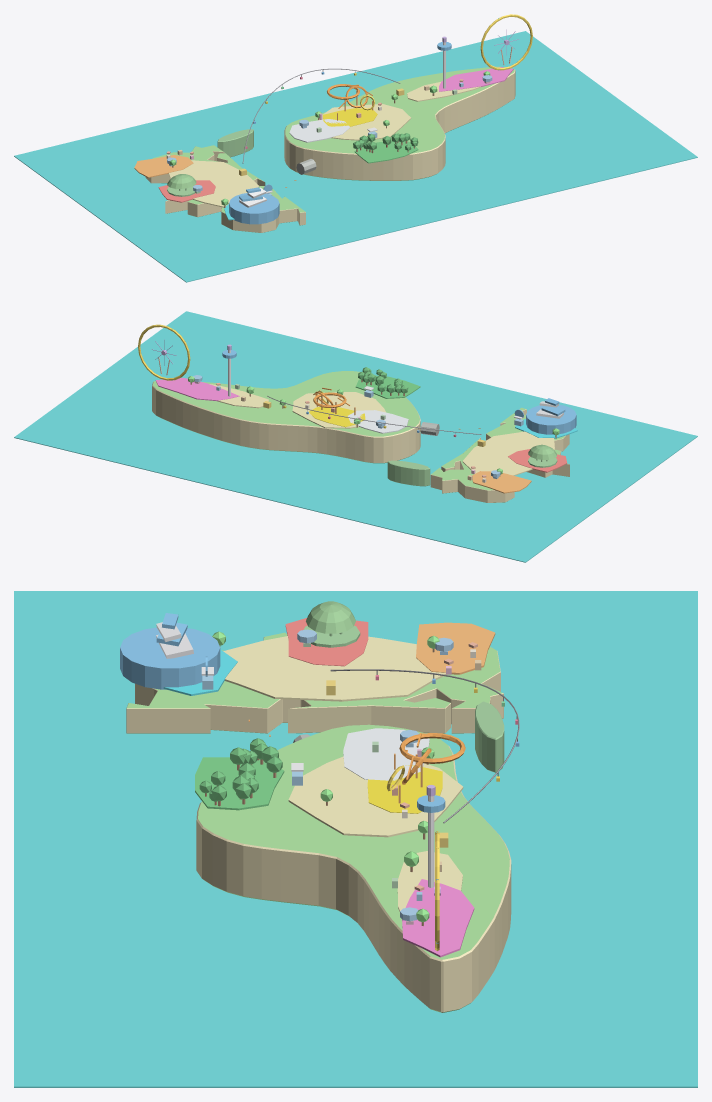
The model's file is OP_Map_LayoutV4.glb.
3 views of the same model, one above another, from view 1: azimuth 30°, elevation 25°; view 2: azimuth 150°, elevation 25°; view 3: azimuth 270°, elevation 25° (orthographic). The views are drawn at different scales.
Visible parts, largest first — view 1: Water_Plane, Island_Summit, Zone_Tints, Island_Waterfront, LM_GrandAquarium, Trees, Ridge_Gap, LM_FerrisWheel, Buildings_Sparse, LM_GiantPanda, LM_HairRaiser, LM_CableCar; view 2: Water_Plane, Island_Summit, Zone_Tints, Island_Waterfront, LM_GrandAquarium, Trees, Ridge_Gap, LM_FerrisWheel, LM_GiantPanda, Buildings_Sparse, LM_CableCar, LM_OceanExpress (+1 smaller); view 3: Water_Plane, Island_Summit, Zone_Tints, Island_Waterfront, LM_GrandAquarium, Trees, LM_GiantPanda, Ridge_Gap, Buildings_Sparse, LM_HairRaiser, LM_CableCar, LM_OceanParkTower.
Part boxes in pixels (bbox=[...]): Water_Plane: bbox=[14, 31, 697, 282]; Island_Summit: bbox=[284, 66, 515, 180]; Zone_Tints: bbox=[134, 67, 513, 220]; Island_Waterfront: bbox=[145, 145, 305, 232]; LM_GrandAquarium: bbox=[229, 187, 279, 224]; Trees: bbox=[170, 71, 490, 207]; Ridge_Gap: bbox=[217, 129, 253, 157]; LM_FerrisWheel: bbox=[480, 14, 532, 70]; Buildings_Sparse: bbox=[166, 75, 492, 193]; LM_GiantPanda: bbox=[167, 174, 196, 196]; LM_HairRaiser: bbox=[327, 84, 375, 120]; LM_CableCar: bbox=[239, 68, 404, 175]; Water_Plane: bbox=[14, 311, 697, 562]; Island_Summit: bbox=[152, 371, 420, 463]; Zone_Tints: bbox=[155, 375, 577, 493]; Island_Waterfront: bbox=[430, 407, 569, 502]; LM_GrandAquarium: bbox=[526, 398, 576, 434]; Trees: bbox=[188, 367, 559, 476]; Ridge_Gap: bbox=[387, 460, 430, 486]; LM_FerrisWheel: bbox=[138, 324, 190, 380]; LM_GiantPanda: bbox=[528, 444, 557, 467]; Buildings_Sparse: bbox=[193, 375, 500, 482]; LM_CableCar: bbox=[263, 396, 485, 446]; LM_OceanExpress: bbox=[363, 386, 524, 435]; Water_Plane: bbox=[14, 591, 697, 1087]; Island_Summit: bbox=[196, 724, 511, 1012]; Zone_Tints: bbox=[163, 618, 495, 957]; Island_Waterfront: bbox=[126, 632, 503, 733]; LM_GrandAquarium: bbox=[120, 613, 220, 689]; Trees: bbox=[199, 631, 439, 925]; LM_GiantPanda: bbox=[303, 601, 360, 647]; Ridge_Gap: bbox=[475, 701, 504, 772]; Buildings_Sparse: bbox=[297, 629, 481, 924]; LM_HairRaiser: bbox=[387, 733, 465, 803]; LM_CableCar: bbox=[326, 669, 519, 847]; LM_OceanParkTower: bbox=[417, 785, 445, 887].
Size of the model in its own units: 48 by 7.62 by 28.
